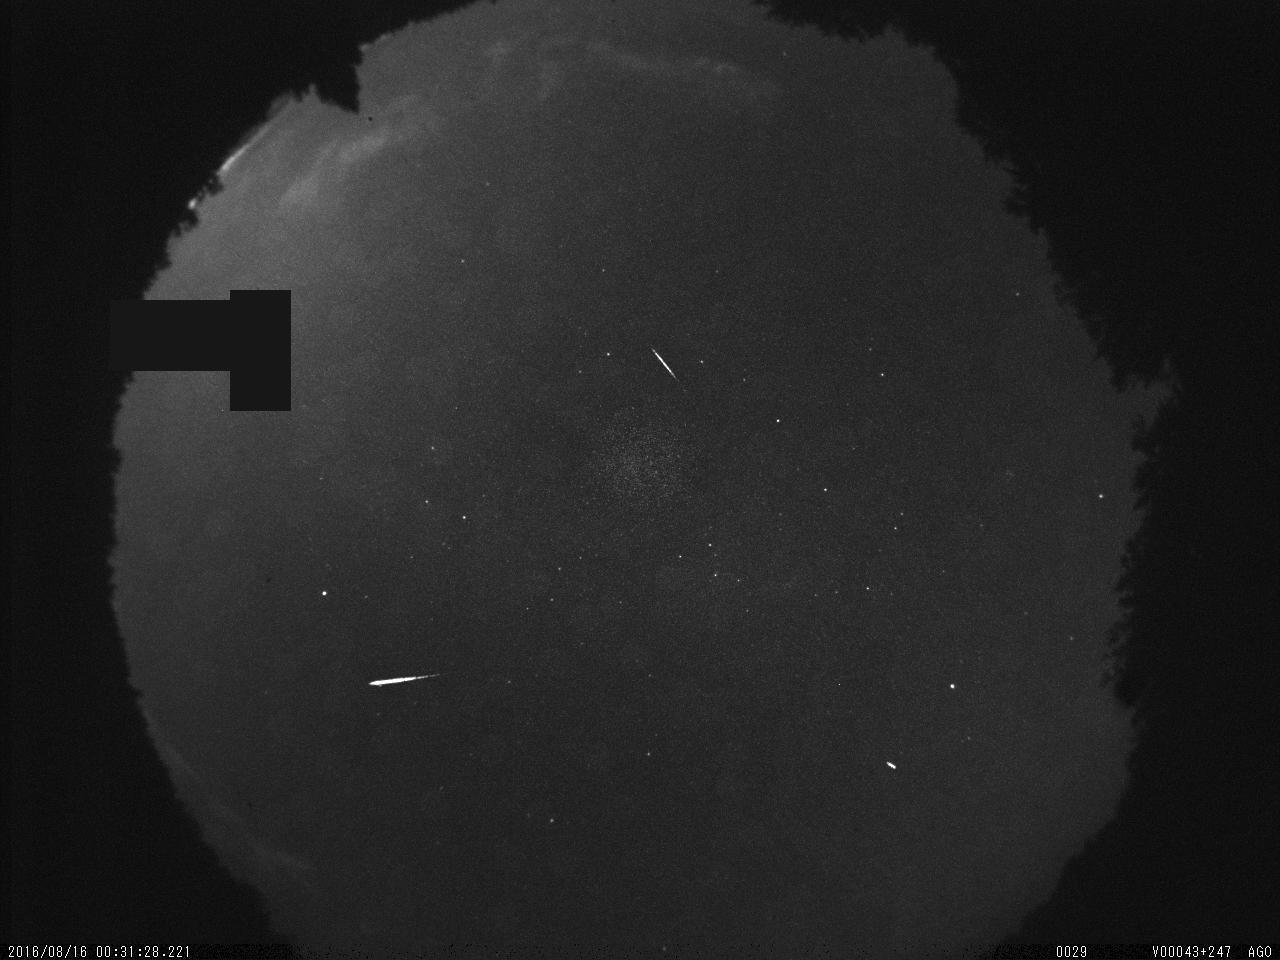meteor: (331, 664, 519, 710)
